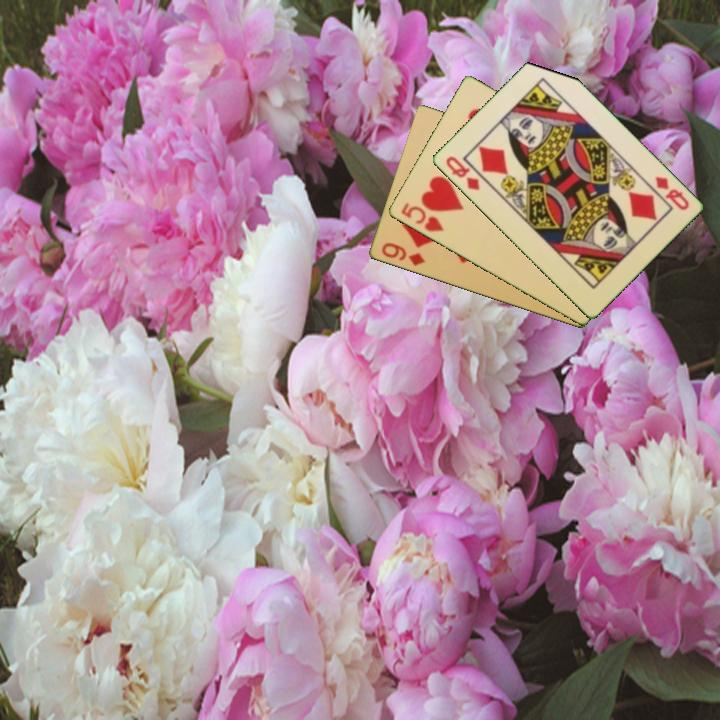5h: (397, 199, 446, 235)
9d: (378, 239, 428, 269)
Qd: (442, 153, 482, 193), (651, 173, 691, 213)
